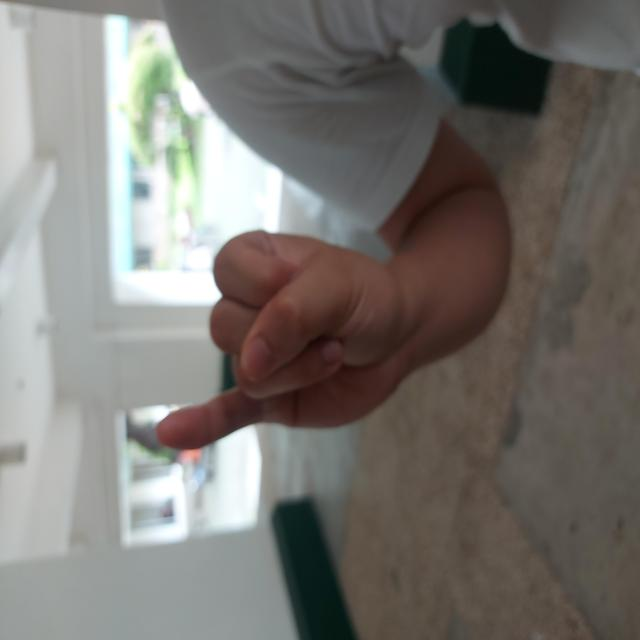I: (184, 151, 413, 407)
